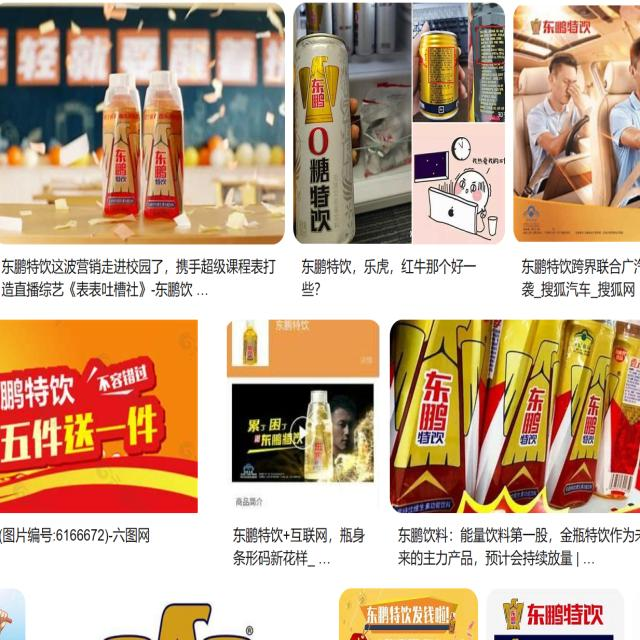dongpeng_special: (397, 318, 476, 473), (506, 335, 556, 466), (574, 354, 613, 458), (101, 122, 141, 196), (144, 122, 182, 199), (299, 55, 339, 123), (502, 598, 524, 630)
